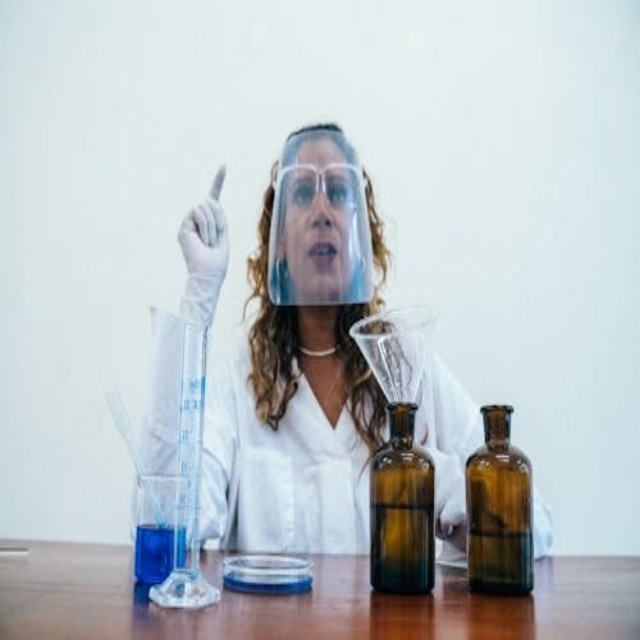Gafas: (275, 160, 364, 204)
Guantes: (176, 164, 231, 330), (428, 446, 470, 537)
Sin_mascara: (298, 236, 343, 269)
